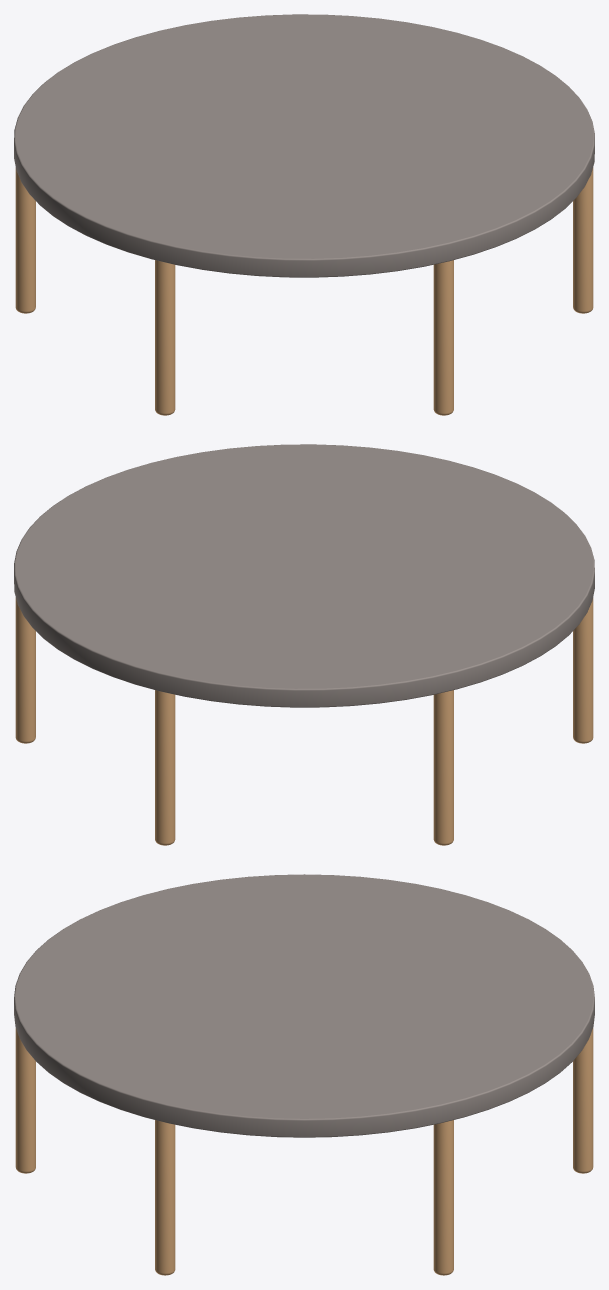
Rendered from table.fbx.
3 views of the same model, one above another, from view 1: azimuth 30°, elevation 25°; view 2: azimuth 150°, elevation 25°; view 3: azimuth 270°, elevation 25° (orthographic).
Visible parts, largest first — view 1: table; view 2: table; view 3: table.
Boxes of the visible parts, x1,y1,x2,y2 form: table: [14, 14, 594, 415]; table: [14, 444, 594, 845]; table: [14, 874, 594, 1275].
Bounding box in the file's own units: 624 × 206 × 624.
